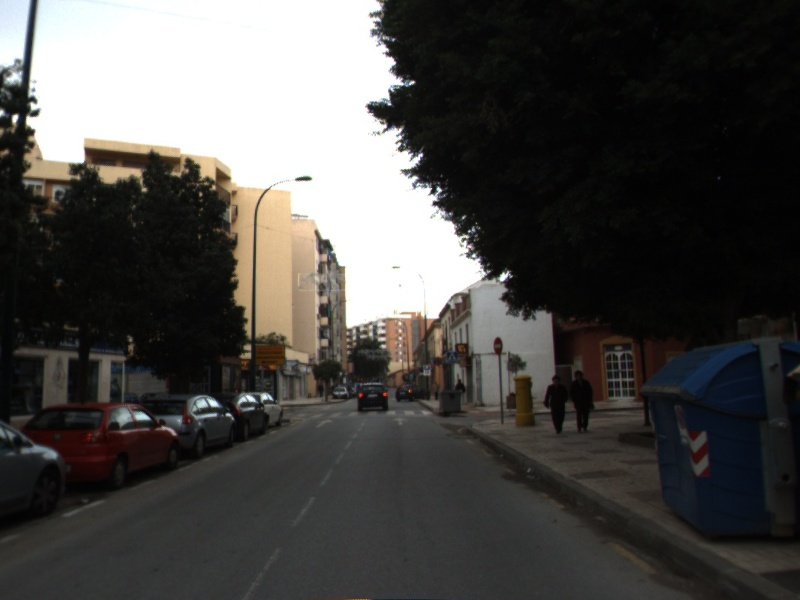STRAIGHT: (314, 417, 335, 429), (390, 415, 410, 427)
